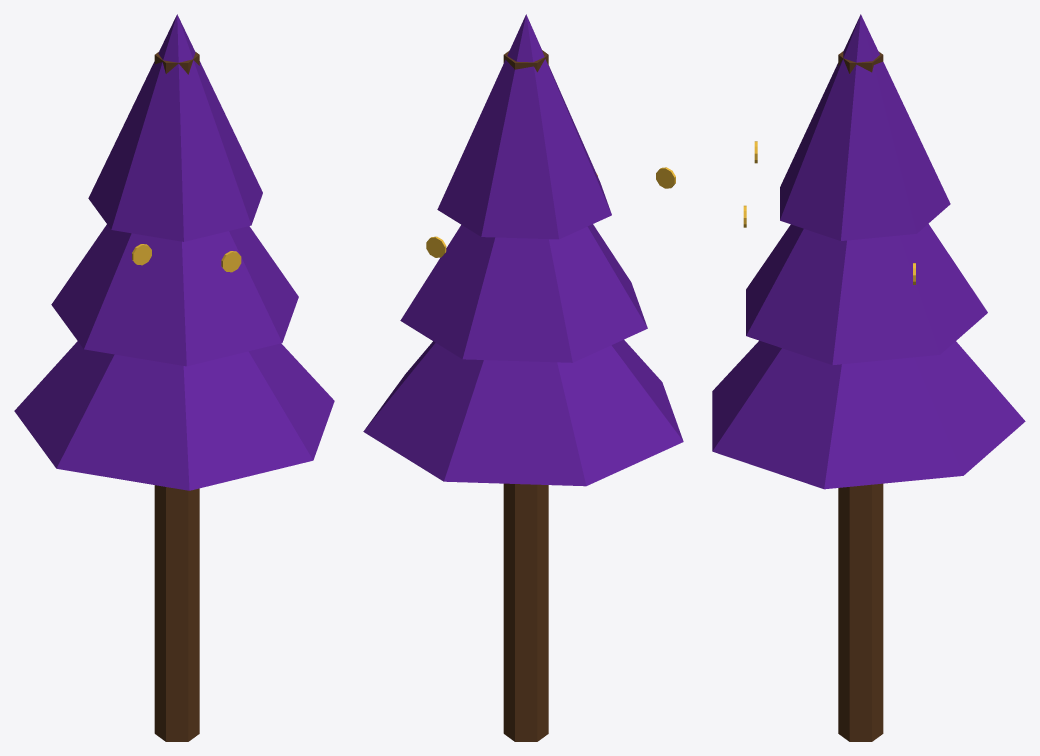
The model's file is Prop_OR_LedgerTree_03.glb.
3 renders of one model, left to right at view 1: azimuth 30°, elevation 25°; view 2: azimuth 150°, elevation 25°; view 3: azimuth 270°, elevation 25°, orthographic.
Visible parts, largest first — view 1: Prop_OR_LedgerTree_03; view 2: Prop_OR_LedgerTree_03; view 3: Prop_OR_LedgerTree_03.
Boxes of the visible parts, bbox=[...] form: Prop_OR_LedgerTree_03: bbox=[14, 14, 334, 741]; Prop_OR_LedgerTree_03: bbox=[363, 14, 683, 741]; Prop_OR_LedgerTree_03: bbox=[712, 14, 1025, 741].
Bounding box in the file's own units: 2.14 × 5.3 × 2.09.
